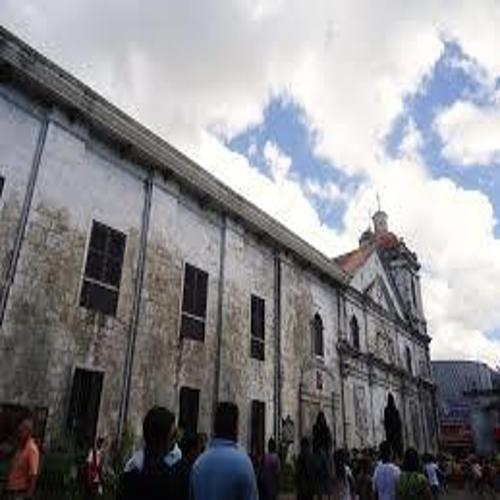Sto. Nino Basilica Church: (322, 186, 447, 480)
